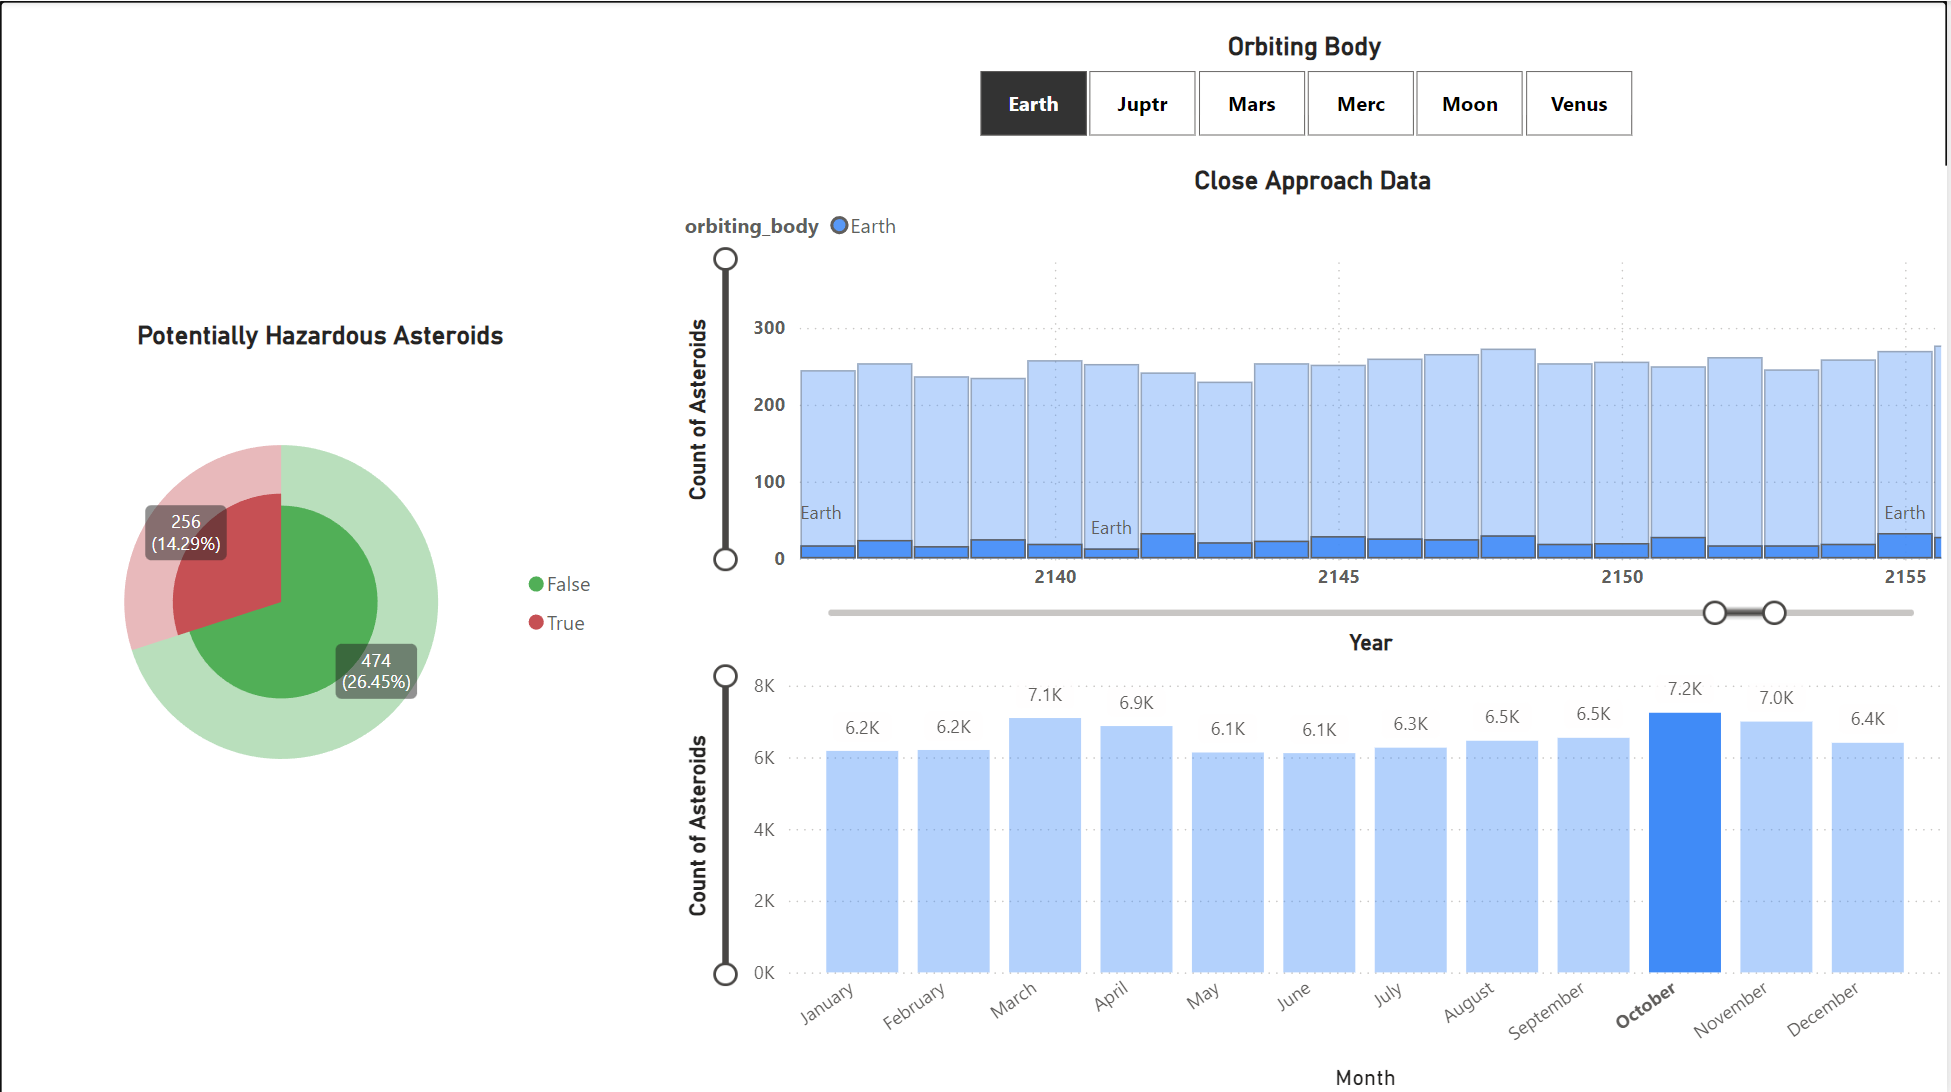

What the dashboard file says about the page in this screenshot:
{"tool":"powerbi","page":{"name":"PHA & CA","canvas":[1280,720],"ordinal":1},"visuals":[{"type":"pieChart","title":"is_potentially_hazardous_asteroid","fields":{"Category":["neo_data asteroids.is_potentially_hazardous_asteroid"],"Y":["CountNonNull(neo_data asteroids.id)"]},"box":[18.3,210,383.3,351.7],"z":0},{"type":"lineChart","title":" Close Approach Data","fields":{"Category":["neo_data close_approach_data.close_approach_date"],"Y":["CountNonNull(neo_data close_approach_data.asteroid_id)"],"Series":["neo_data close_approach_data.orbiting_body"]},"box":[401.7,185,835,400],"z":1000},{"type":"slicer","title":"Orbiting Body","fields":{"Values":["neo_data close_approach_data.orbiting_body"]},"box":[581.7,93.3,478.3,75],"z":1001}]}

Visuals, with their boxes in screenshot pixels (x1, y1, x2, y2), scaled from the page's 1280x720 canvas onto the 1951x1092 screenshot:
"is_potentially_hazardous_asteroid" pieChart: x1=28 y1=318 x2=612 y2=852
" Close Approach Data" lineChart: x1=612 y1=281 x2=1885 y2=887
"Orbiting Body" slicer: x1=887 y1=142 x2=1616 y2=255
